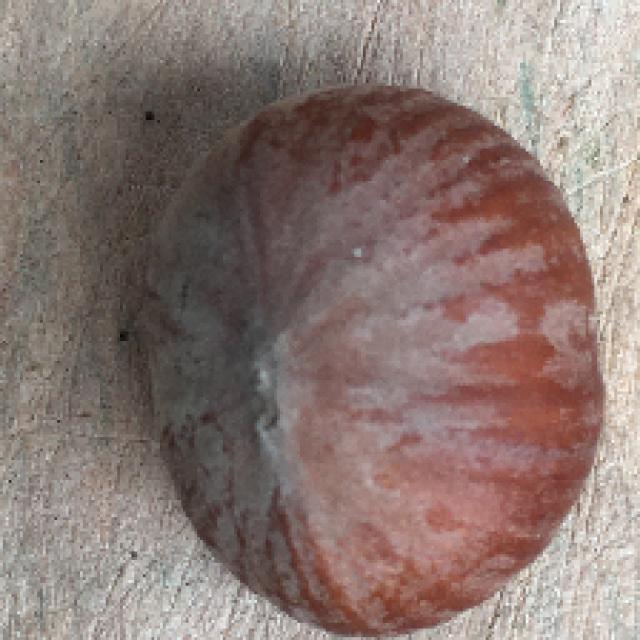qualityHazelnut: (127, 82, 604, 624)
